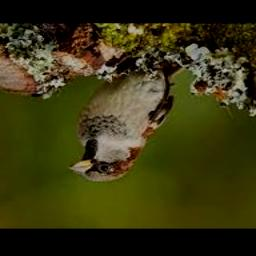Sparrow: (68, 59, 185, 181)
